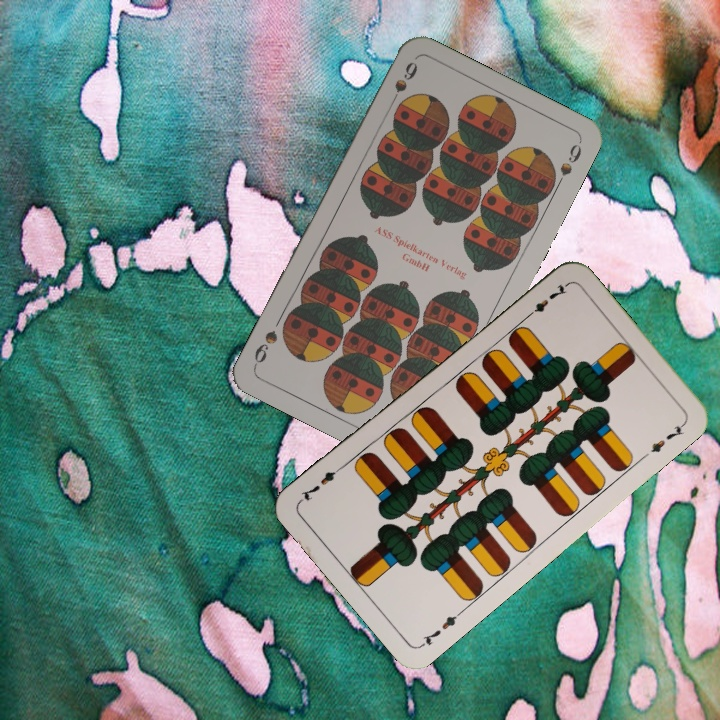E7: (416, 606, 466, 649), (520, 280, 570, 322)
S9: (384, 57, 420, 112)
